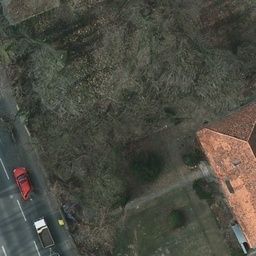car: (13, 166, 35, 201), (33, 215, 55, 250)
